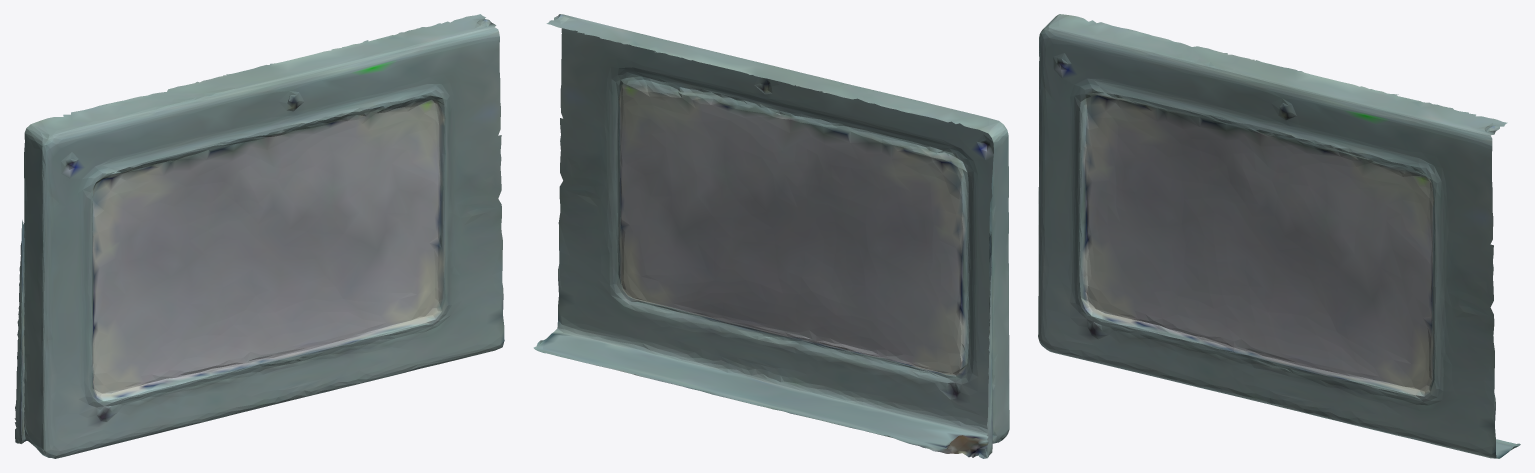
Rendered from scan.obj.
3 views of the same model, side by side, from view 1: azimuth 30°, elevation 25°; view 2: azimuth 150°, elevation 25°; view 3: azimuth 330°, elevation 25° (orthographic).
Visible parts, largest first — view 1: scan.ply; view 2: scan.ply; view 3: scan.ply.
Part boxes in pixels (box(x1,y1,x2,y2)): scan.ply: box(14, 14, 504, 458); scan.ply: box(533, 14, 1009, 458); scan.ply: box(1038, 14, 1520, 458).
Size of the model in its own units: 0.3555 by 0.2436 by 0.0391.
